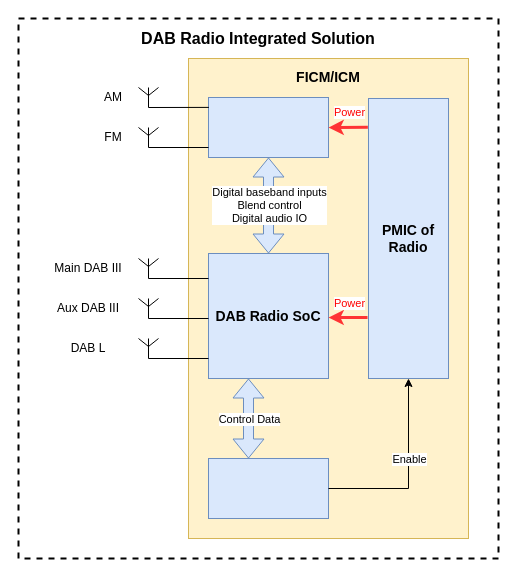
Some shapes in this 516 by 576 pixel diagram are drawn without their labels. The shapes that lost their labels are listed below. From the top down, each one's box as (x1, y1, x2, y2) in pixels, then its label:
(208, 96, 328, 158): Analog Radio Device
(208, 458, 328, 518): Core SoC
